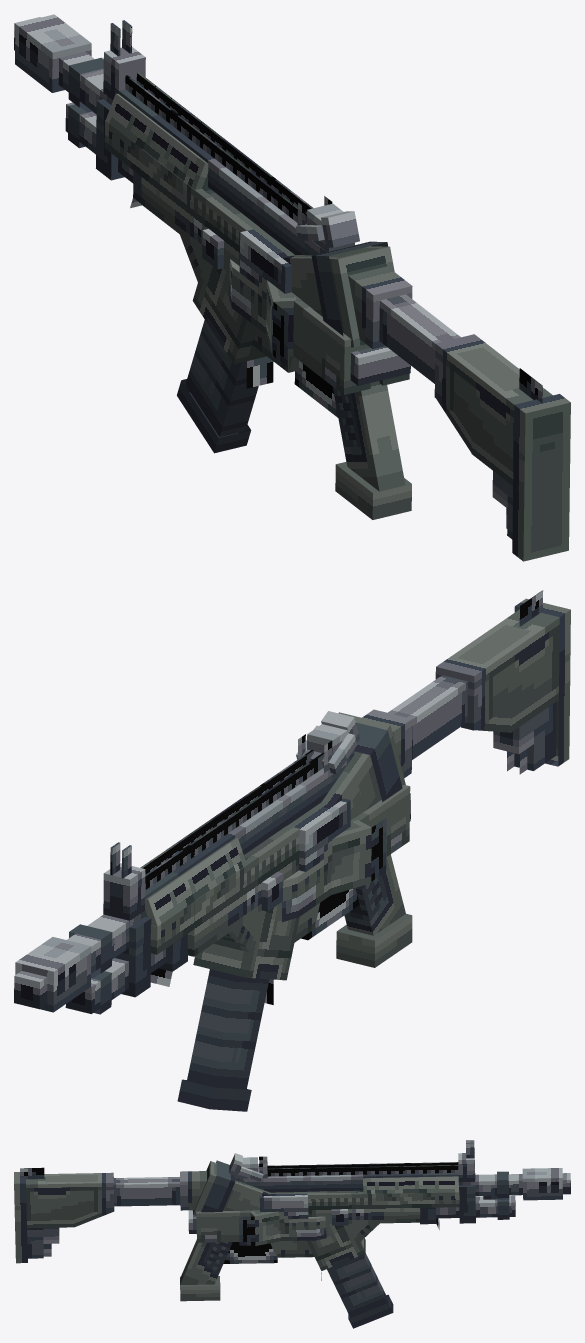
Rendered from blaster_V3.glb.
3 renders of one model, top to bottom at view 1: azimuth 30°, elevation 25°; view 2: azimuth 150°, elevation 25°; view 3: azimuth 270°, elevation 25°, orthographic. The views are drawn at different scales.
Visible parts, largest first — view 1: cube_28, cube_11, cube_29, cube_14, cube_15, cube_7, cube_56, cube_32, cube_17, cube_45, cube_21, cube_2 (+24 smaller); view 2: cube_15, cube_11, cube_14, cube_56, cube_21, cube_7, cube_32, cube_17, cube_45, cube_54, cube_29, cube_40 (+26 smaller); view 3: cube_11, cube_15, cube_7, cube_14, cube_32, cube_59, cube_21, cube_29, cube_60, cube_56, cube_17, cube_1 (+30 smaller).
Boxes of the visible parts, x1=… form: cube_28: x1=512, y1=394, x2=570, y2=561; cube_11: x1=141, y1=149, x2=259, y2=272; cube_29: x1=332, y1=381, x2=405, y2=491; cube_14: x1=125, y1=72, x2=313, y2=223; cube_15: x1=185, y1=320, x2=258, y2=436; cube_7: x1=118, y1=89, x2=325, y2=255; cube_56: x1=435, y1=334, x2=552, y2=417; cube_32: x1=379, y1=294, x2=460, y2=383; cube_17: x1=15, y1=14, x2=91, y2=92; cube_45: x1=105, y1=93, x2=208, y2=189; cube_21: x1=192, y1=260, x2=266, y2=364; cube_2: x1=303, y1=246, x2=394, y2=347; cube_15: x1=187, y1=969, x2=269, y2=1089; cube_11: x1=187, y1=825, x2=299, y2=956; cube_14: x1=140, y1=750, x2=324, y2=889; cube_56: x1=435, y1=609, x2=559, y2=689; cube_21: x1=193, y1=902, x2=299, y2=980; cube_7: x1=144, y1=753, x2=354, y2=902; cube_32: x1=388, y1=675, x2=467, y2=759; cube_17: x1=15, y1=937, x2=91, y2=1012; cube_45: x1=145, y1=837, x2=246, y2=926; cube_54: x1=510, y1=631, x2=559, y2=732; cube_29: x1=344, y1=854, x2=405, y2=935; cube_40: x1=287, y1=798, x2=350, y2=871; cube_11: x1=307, y1=1190, x2=420, y2=1224; cube_15: x1=327, y1=1253, x2=387, y2=1317; cube_7: x1=235, y1=1173, x2=458, y2=1192; cube_14: x1=267, y1=1162, x2=458, y2=1176; cube_32: x1=113, y1=1177, x2=180, y2=1206; cube_59: x1=26, y1=1191, x2=74, y2=1228; cube_21: x1=307, y1=1224, x2=365, y2=1270; cube_29: x1=180, y1=1239, x2=232, y2=1284; cube_60: x1=363, y1=1176, x2=458, y2=1193; cube_56: x1=26, y1=1172, x2=113, y2=1191; cube_17: x1=522, y1=1168, x2=562, y2=1200; cube_1: x1=204, y1=1210, x2=250, y2=1242.
Bounding box in the file's own units: 0.4182 × 1.39 × 3.84.
Materials: 1 (1 with a texture image).
